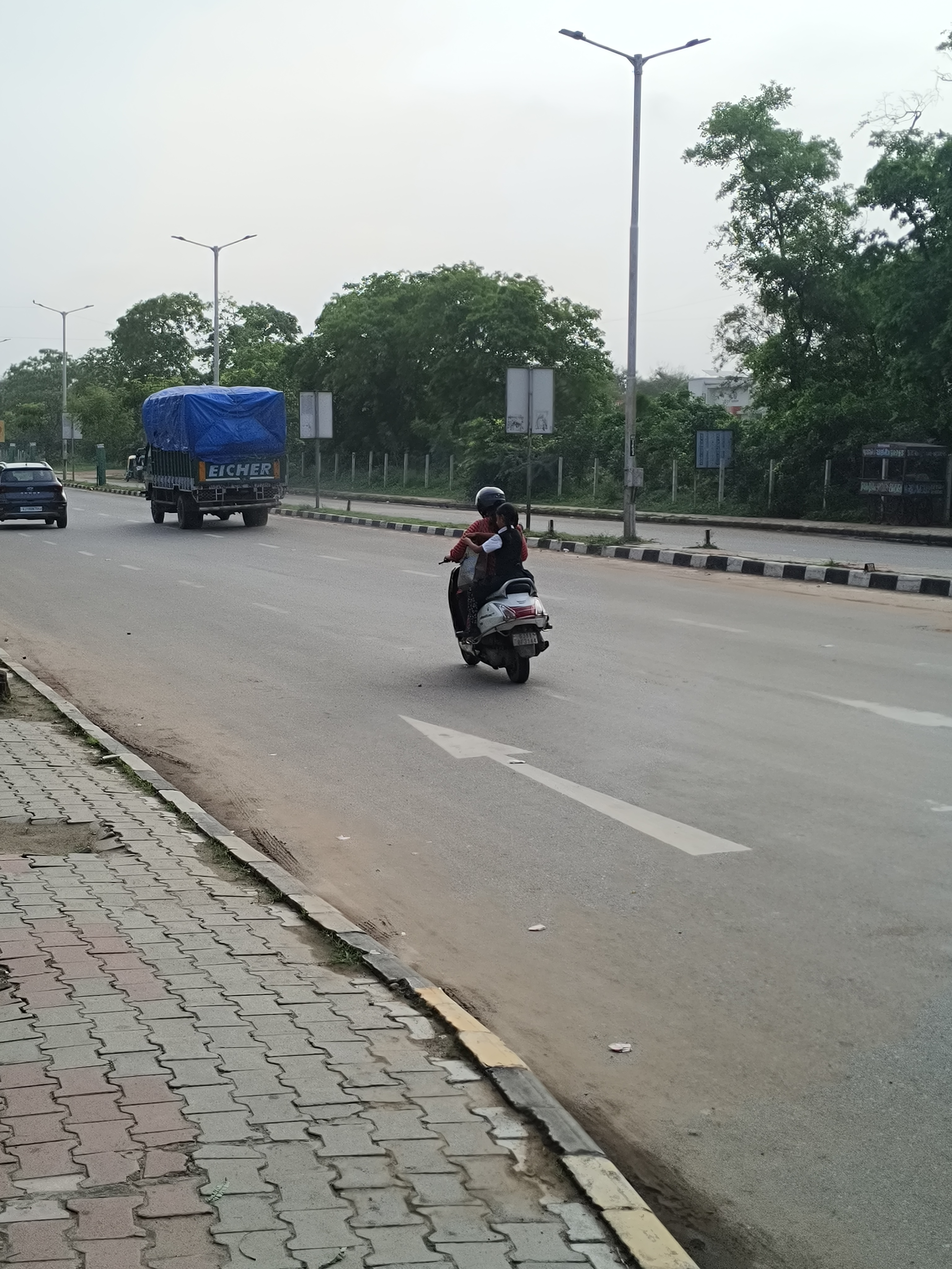BikeWithRider: (433, 478, 559, 690)
Helmet: (470, 480, 511, 523)
